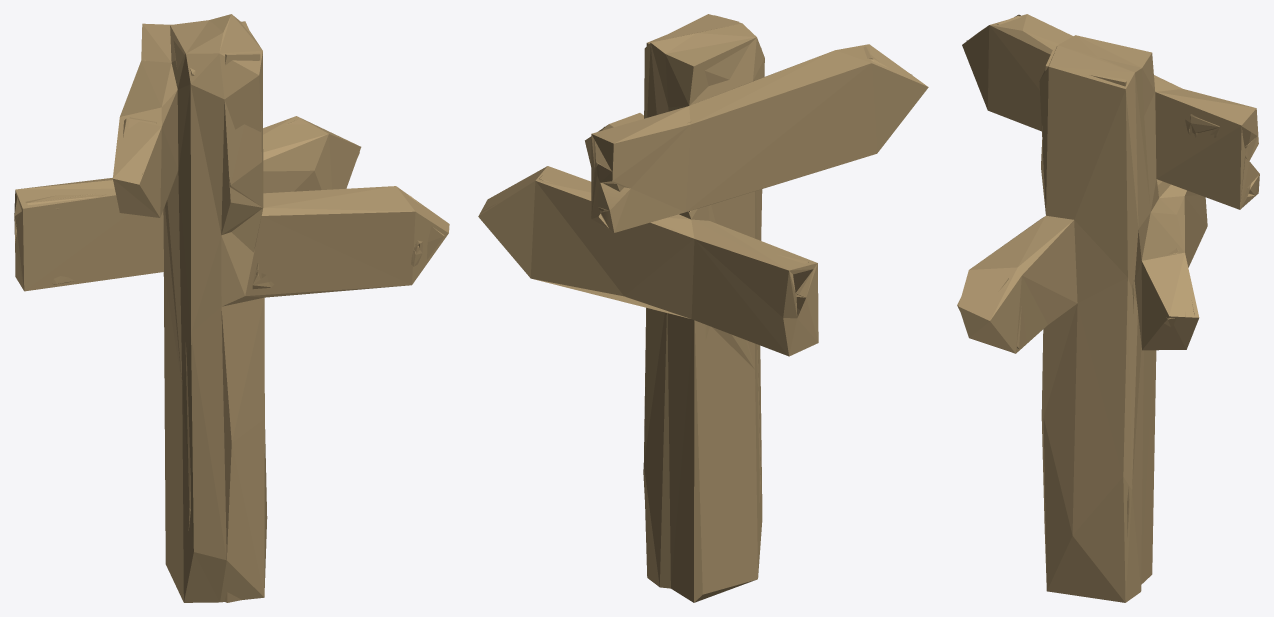
The model's file is ENV_09_SIGN_game.glb.
3 views of the same model, side by side, from view 1: azimuth 30°, elevation 25°; view 2: azimuth 150°, elevation 25°; view 3: azimuth 270°, elevation 25° (orthographic). The views are drawn at different scales.
Visible parts, largest first — view 1: ENV_09_SIGN; view 2: ENV_09_SIGN; view 3: ENV_09_SIGN.
Part boxes in pixels (x1,y1,x2,y2): ENV_09_SIGN: (14,14,449,602); ENV_09_SIGN: (478,14,928,602); ENV_09_SIGN: (957,14,1259,602).
Size of the model in its own units: 1.19 by 1.8 by 0.9306.
